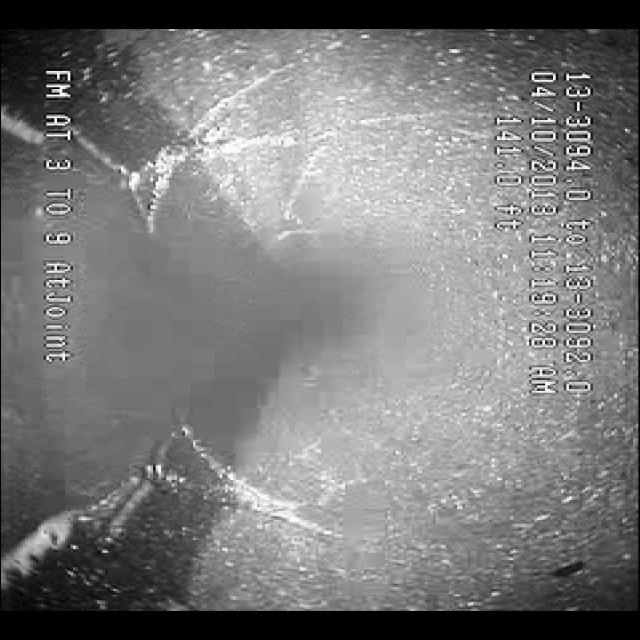Crack: (92, 44, 348, 232)
